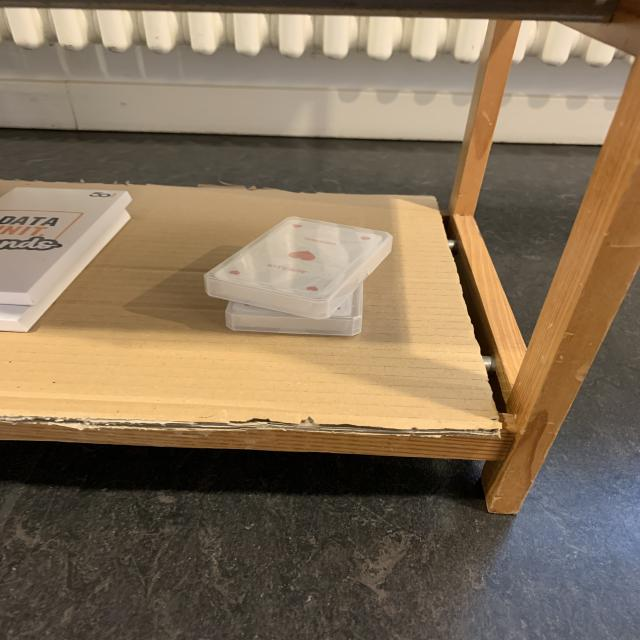Jasskarte: (204, 217, 392, 320), (226, 284, 363, 336)
